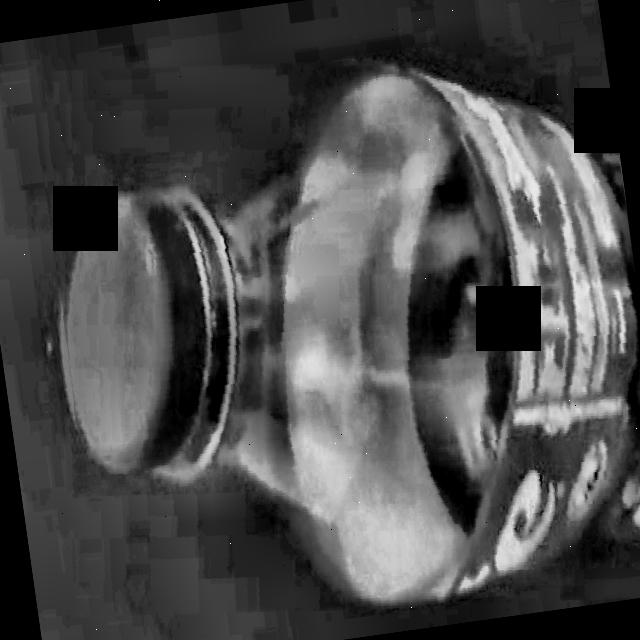bottle: (69, 59, 640, 607)
